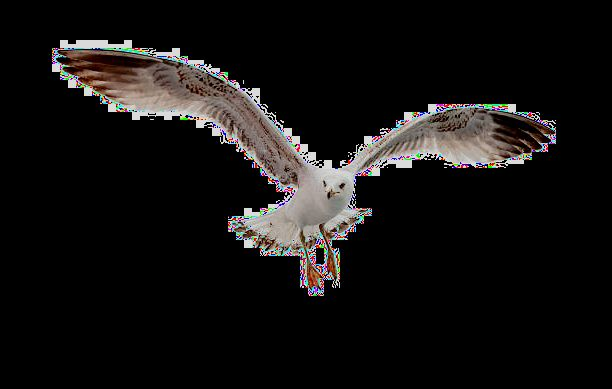Bird: (50, 40, 560, 300)
